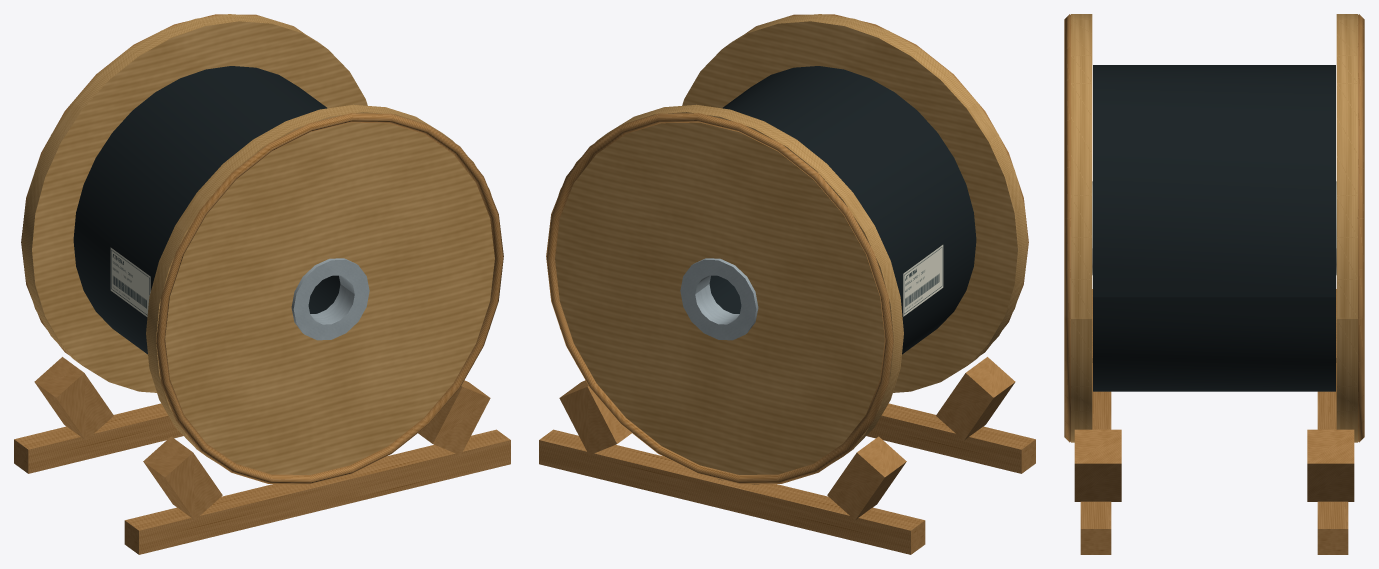
The model's file is cable_drum.glb.
3 views of the same model, side by side, from view 1: azimuth 30°, elevation 25°; view 2: azimuth 150°, elevation 25°; view 3: azimuth 270°, elevation 25° (orthographic). The views are drawn at different scales.
Parts seen in each view (by area): view 1: Plywood, Pine dunnage, Black cable jacket, Steel cut edges, Packing label; view 2: Plywood, Pine dunnage, Black cable jacket, Steel cut edges, Packing label; view 3: Black cable jacket, Plywood, Pine dunnage.
Part boxes in pixels (x1,y1,x2,y2): Plywood: (22, 14, 494, 484); Pine dunnage: (14, 14, 510, 554); Black cable jacket: (73, 66, 340, 354); Steel cut edges: (291, 258, 369, 340); Packing label: (110, 247, 150, 316); Plywood: (555, 14, 1027, 484); Pine dunnage: (539, 14, 1035, 554); Black cable jacket: (709, 66, 976, 354); Steel cut edges: (680, 258, 758, 340); Packing label: (903, 245, 943, 316); Black cable jacket: (1093, 65, 1335, 391); Plywood: (1071, 14, 1357, 442); Pine dunnage: (1064, 14, 1364, 554).
Bounding box in the file's own units: 2.25 × 2.29 × 1.47.
Materials: 5 (4 with a texture image).
